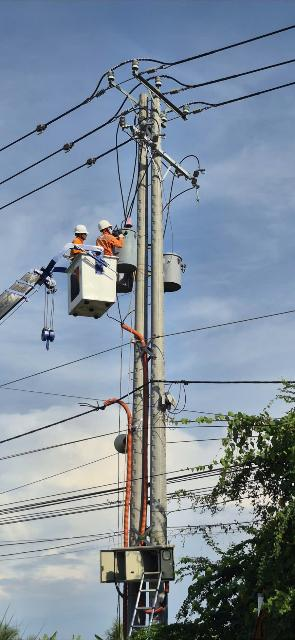gloves: (117, 234, 125, 238)
helmet: (70, 220, 91, 238), (95, 218, 114, 234)
